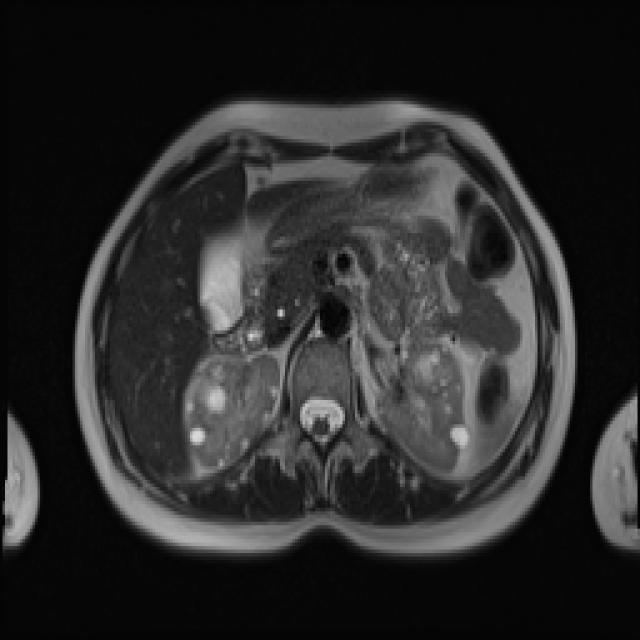sag: (184, 351, 281, 472)
sol: (377, 340, 467, 474)
